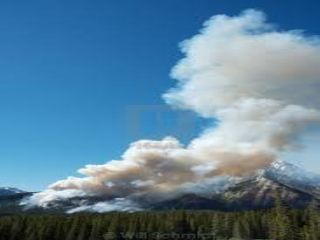smoke: (27, 111, 294, 209), (163, 10, 315, 147)
